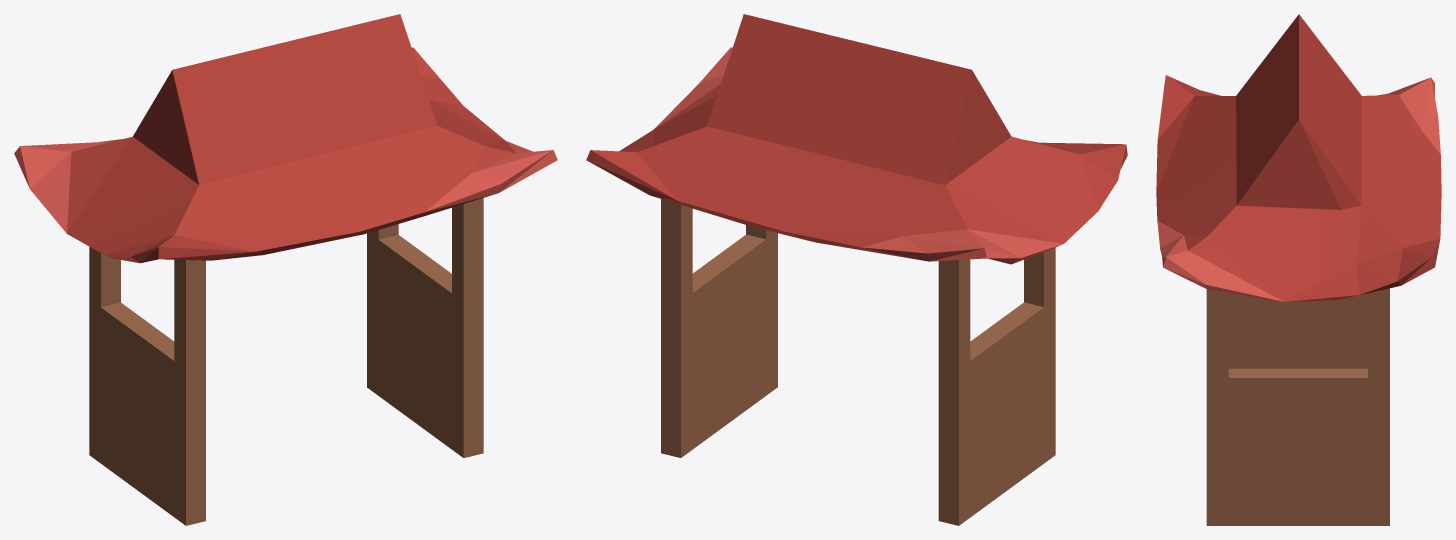
File: building_10.fbx
3 views of the same model, side by side, from view 1: azimuth 30°, elevation 25°; view 2: azimuth 150°, elevation 25°; view 3: azimuth 270°, elevation 25° (orthographic). The views are drawn at different scales.
Parts seen in each view (by area): view 1: building_10; view 2: building_10; view 3: building_10.
Boxes of the visible parts, x1,y1,x2,y2 form: building_10: [14, 14, 557, 525]; building_10: [586, 14, 1127, 525]; building_10: [1156, 14, 1441, 525].
Bounding box in the file's own units: 652 × 606 × 401.
